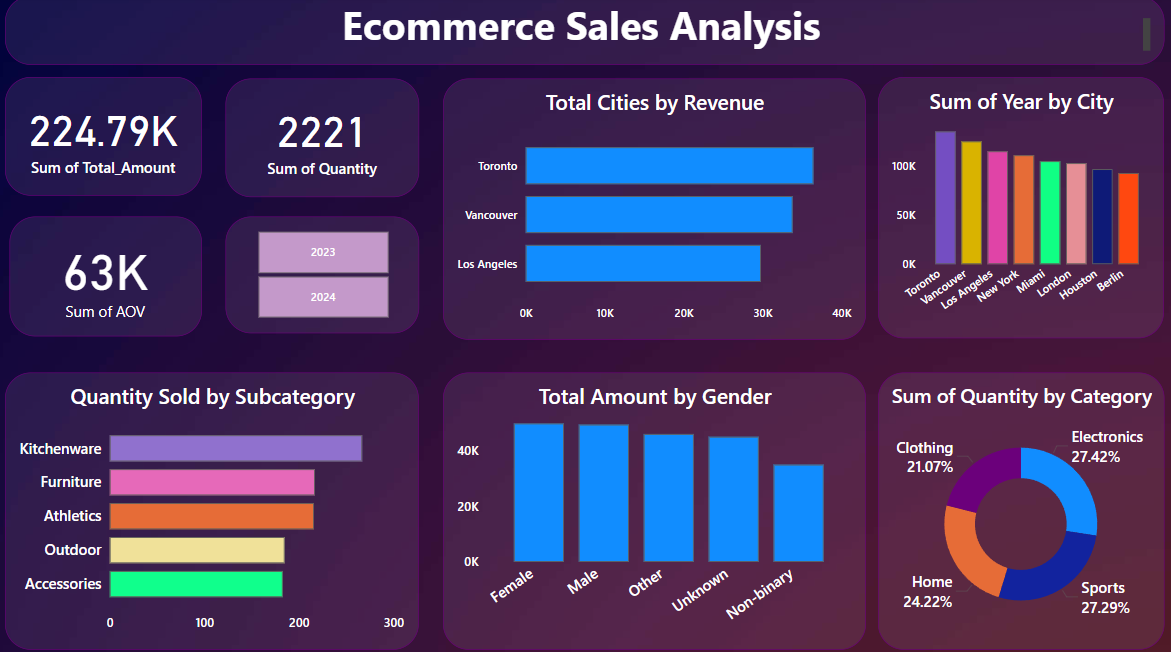

This screenshot's page, from the dashboard's own definition file:
{"tool":"powerbi","page":{"name":"Page 1","canvas":[1280,720],"ordinal":0},"visuals":[{"type":"clusteredColumnChart","title":"Total Amount by Gender","fields":{"Category":["uncleaned_ecommerce_data.Customer_Gender (groups)"],"Y":["Sum(uncleaned_ecommerce_data.Total_Amount)"]},"box":[484.7,408.3,458.7,300.9],"z":0},{"type":"barChart","title":"Total Cities by Revenue","fields":{"Y":["Sum(uncleaned_ecommerce_data.Total_Amount)"],"Category":["uncleaned_ecommerce_data.City"]},"box":[485,90,458.3,283.3],"z":1000},{"type":"clusteredBarChart","title":"Quantity Sold by Subcategory","fields":{"Category":["uncleaned_ecommerce_data.Subcategory"],"Y":["Sum(uncleaned_ecommerce_data.Quantity)"]},"box":[9.8,408.3,448.9,300.9],"z":2000},{"type":"donutChart","fields":{"Category":["uncleaned_ecommerce_data.Category"],"Y":["Sum(uncleaned_ecommerce_data.Quantity)"]},"box":[956.4,408.3,310.7,300.9],"z":3000},{"type":"textbox","box":[9.8,0,1257.3,74.8],"z":4000},{"type":"card","fields":{"Values":["Sum(uncleaned_ecommerce_data.Total_Amount)"]},"box":[10,88.3,213.3,128.3],"z":5000},{"type":"card","fields":{"Values":["Sum(uncleaned_ecommerce_data.Quantity)"]},"box":[248.3,90,210,128.3],"z":6000},{"type":"card","fields":{"Values":["Sum(uncleaned_ecommerce_data.AOV)"]},"box":[15,238.3,208.3,130],"z":7000},{"type":"slicer","fields":{"Values":["uncleaned_ecommerce_data.Year"]},"box":[248.3,238.3,210,126.7],"z":8000},{"type":"columnChart","fields":{"Category":["uncleaned_ecommerce_data.City"],"Y":["Sum(uncleaned_ecommerce_data.Year)"]},"box":[956.7,88.3,310,283.3],"z":9000}]}

Visuals, with their boxes in screenshot pixels (x1, y1, x2, y2), scaled from the page's 1280x720 canvas onto the 1171x652 screenshot:
"Total Amount by Gender" clusteredColumnChart: left=443, top=370, right=863, bottom=642
"Total Cities by Revenue" barChart: left=444, top=82, right=863, bottom=338
"Quantity Sold by Subcategory" clusteredBarChart: left=9, top=370, right=420, bottom=642
donutChart - uncleaned_ecommerce_data.Category x Sum(uncleaned_ecommerce_data.Quantity): left=875, top=370, right=1159, bottom=642
textbox: left=9, top=0, right=1159, bottom=68
card - Sum(uncleaned_ecommerce_data.Total_Amount): left=9, top=80, right=204, bottom=196
card - Sum(uncleaned_ecommerce_data.Quantity): left=227, top=82, right=419, bottom=198
card - Sum(uncleaned_ecommerce_data.AOV): left=14, top=216, right=204, bottom=334
slicer - uncleaned_ecommerce_data.Year: left=227, top=216, right=419, bottom=331
columnChart - uncleaned_ecommerce_data.City x Sum(uncleaned_ecommerce_data.Year): left=875, top=80, right=1159, bottom=337
